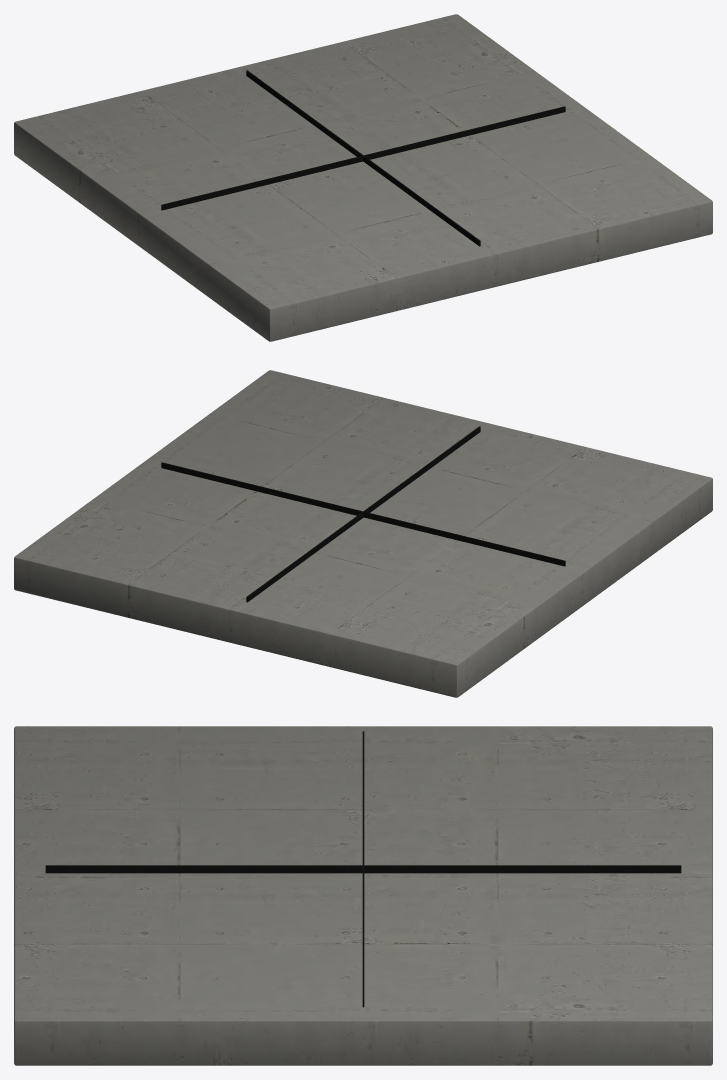
The model's file is PIS-OUT-001_anim.glb.
The picture shows the model from 3 angles, top to bottom: view 1: azimuth 30°, elevation 25°; view 2: azimuth 150°, elevation 25°; view 3: azimuth 270°, elevation 25°; orthographic projection. The views are drawn at different scales.
Visible parts, largest first — view 1: PIS-OUT-001_anim0; view 2: PIS-OUT-001_anim0; view 3: PIS-OUT-001_anim0.
Boxes of the visible parts, x1=… form: PIS-OUT-001_anim0: x1=14, y1=14, x2=712, y2=341; PIS-OUT-001_anim0: x1=14, y1=370, x2=712, y2=697; PIS-OUT-001_anim0: x1=14, y1=726, x2=712, y2=1065.
Size of the model in its own units: 1.1 by 0.0925 by 1.1.
Materials: 3 (3 with a texture image).
